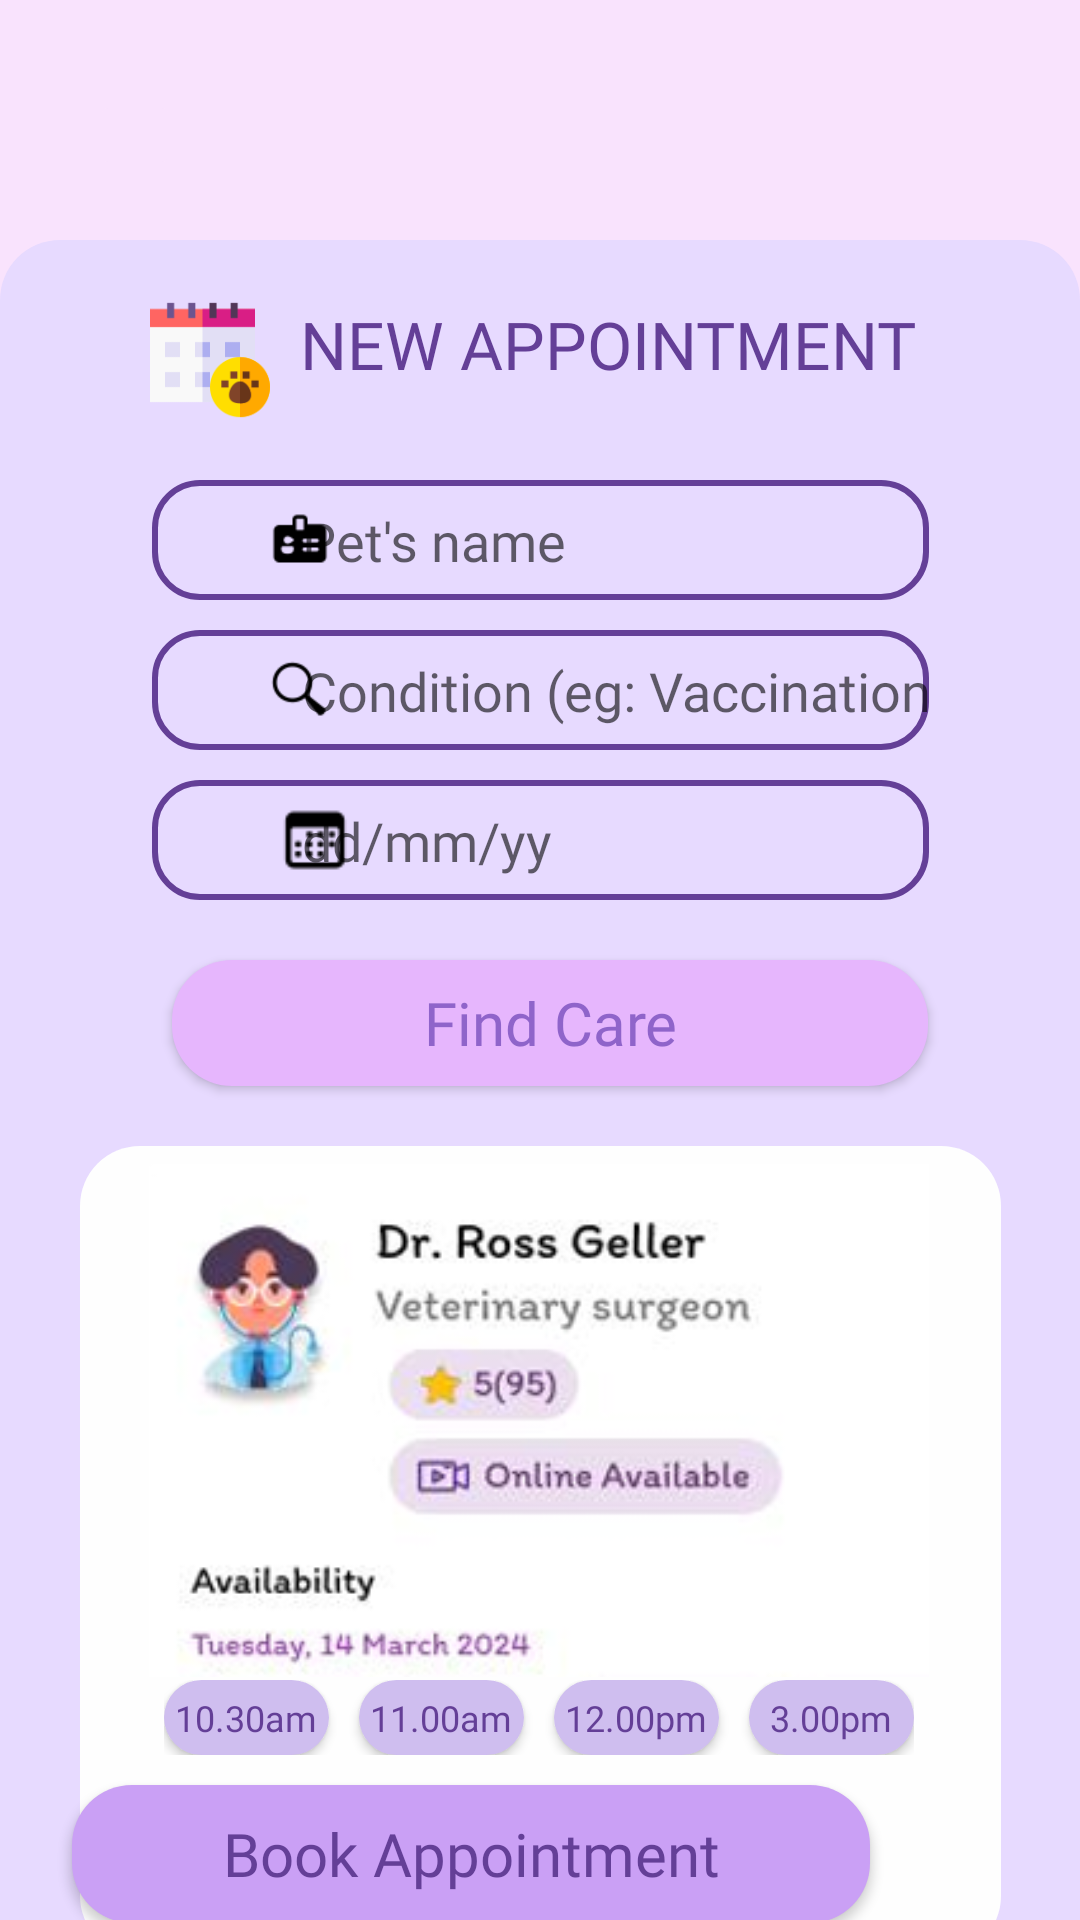

Where to tap for icons on this 1080px×1920px app screen, as [x,y]:
dateicon: [321,840]
nameicon: [301,538]
searchicon: [301,689]
